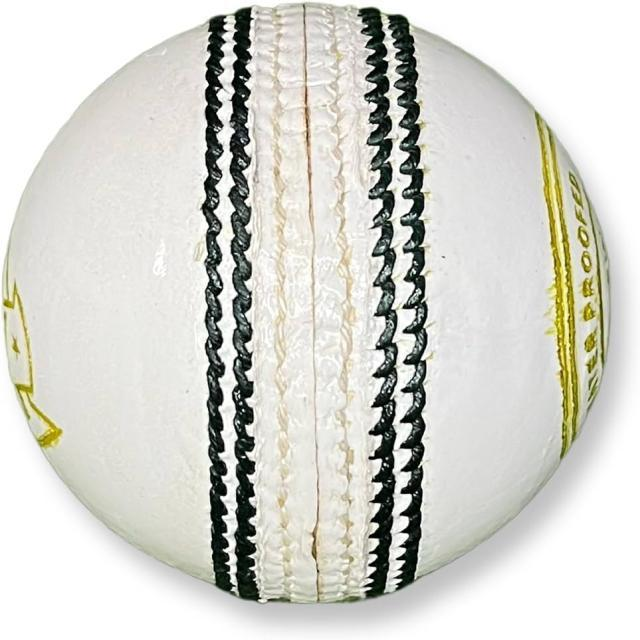cricket ball: (1, 2, 612, 606)
